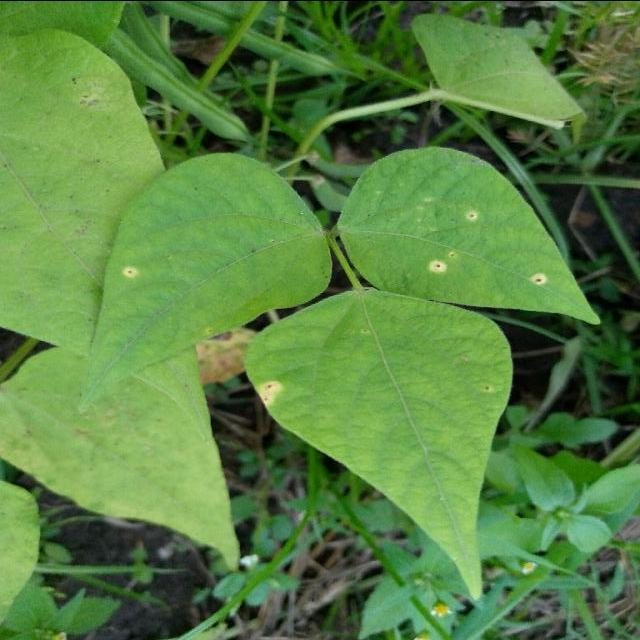hawar: (0, 122, 583, 603)
